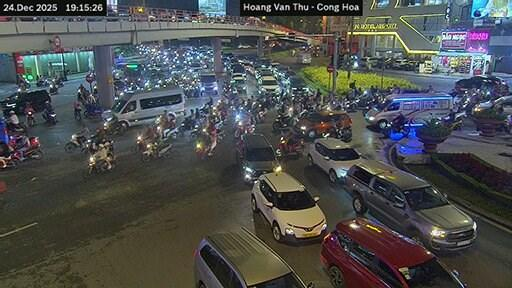motorbike: (82, 154, 112, 178), (12, 136, 41, 160), (140, 143, 172, 162), (275, 136, 303, 156), (323, 126, 352, 142), (64, 135, 89, 153), (441, 112, 464, 130), (103, 117, 125, 135), (381, 121, 409, 135), (195, 134, 210, 157), (272, 116, 295, 130), (179, 115, 195, 135), (233, 122, 253, 136), (0, 153, 19, 166), (156, 125, 178, 136), (131, 135, 146, 151), (84, 103, 102, 116), (7, 121, 25, 133), (188, 124, 201, 139), (41, 109, 54, 124), (342, 100, 357, 112), (253, 109, 265, 121), (35, 77, 51, 85), (26, 112, 34, 126), (51, 77, 63, 86), (48, 81, 57, 93)
